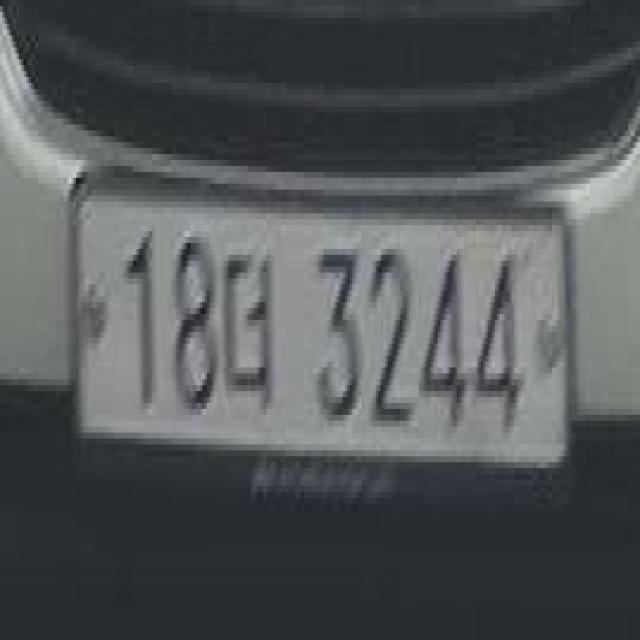plat: (70, 170, 575, 478)
